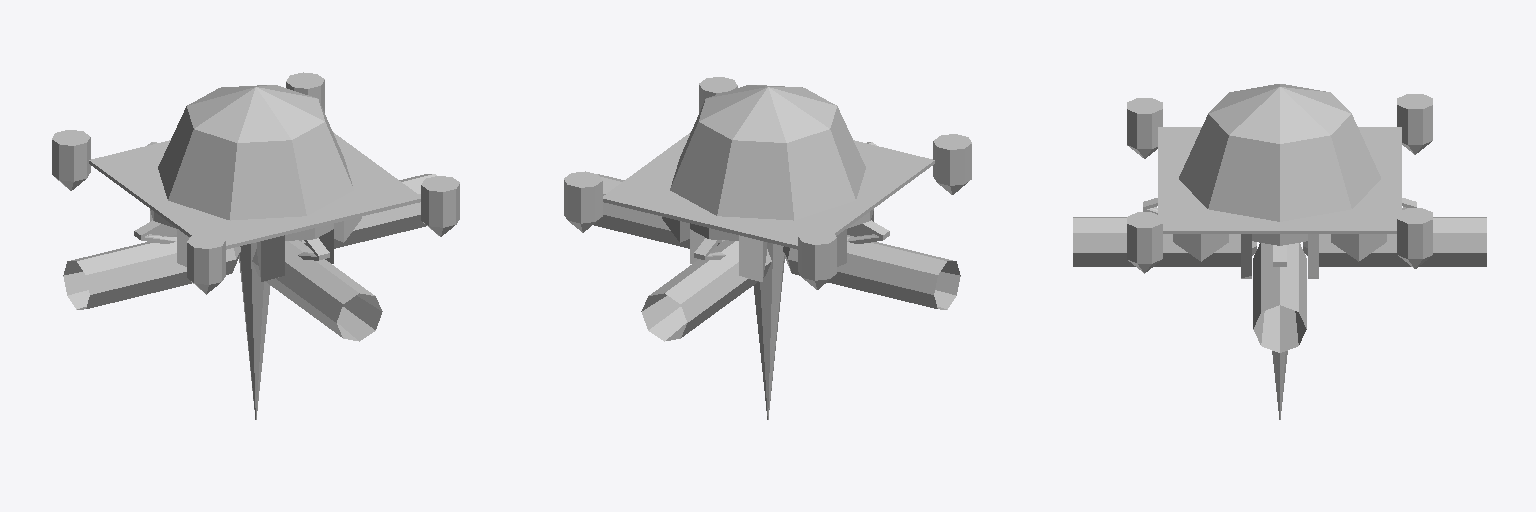
The model's file is Gun Platform.obj.
3 renders of one model, left to right at view 1: azimuth 30°, elevation 25°; view 2: azimuth 150°, elevation 25°; view 3: azimuth 270°, elevation 25°, orthographic.
Visible parts, largest first — view 1: cube2_sep53, cube2, cube2_sep45, cube2_sep49, cube2_sep61, cube2_sep46, cube2_sep59, cube2_sep58, cube2_sep56, cube2_sep60, cube2_sep57, cube2_sep55; view 2: cube2_sep53, cube2, cube2_sep45, cube2_sep48, cube2_sep61, cube2_sep46, cube2_sep56, cube2_sep57, cube2_sep59, cube2_sep52, cube2_sep55, cube2_sep58; view 3: cube2_sep53, cube2, cube2_sep46, cube2_sep48, cube2_sep49, cube2_sep58, cube2_sep57, cube2_sep56, cube2_sep59, cube2_sep54, cube2_sep60, cube2_sep52 (+1 smaller).
Boxes of the visible parts, x1=… form: cube2_sep53: x1=158, y1=85, x2=353, y2=220; cube2: x1=89, y1=132, x2=420, y2=249; cube2_sep45: x1=63, y1=235, x2=240, y2=309; cube2_sep49: x1=252, y1=240, x2=382, y2=341; cube2_sep61: x1=239, y1=242, x2=270, y2=419; cube2_sep46: x1=299, y1=174, x2=436, y2=248; cube2_sep59: x1=187, y1=233, x2=225, y2=294; cube2_sep58: x1=421, y1=176, x2=459, y2=236; cube2_sep56: x1=52, y1=130, x2=90, y2=190; cube2_sep60: x1=257, y1=223, x2=333, y2=281; cube2_sep57: x1=286, y1=72, x2=324, y2=112; cube2_sep55: x1=150, y1=209, x2=189, y2=266; cube2_sep53: x1=670, y1=85, x2=865, y2=220; cube2: x1=603, y1=132, x2=934, y2=249; cube2_sep45: x1=783, y1=235, x2=960, y2=309; cube2_sep48: x1=641, y1=240, x2=771, y2=341; cube2_sep61: x1=753, y1=242, x2=784, y2=419; cube2_sep46: x1=593, y1=174, x2=724, y2=248; cube2_sep56: x1=798, y1=229, x2=836, y2=289; cube2_sep57: x1=564, y1=171, x2=602, y2=232; cube2_sep59: x1=933, y1=134, x2=971, y2=194; cube2_sep52: x1=690, y1=223, x2=766, y2=281; cube2_sep55: x1=836, y1=209, x2=873, y2=266; cube2_sep58: x1=699, y1=77, x2=737, y2=112; cube2_sep53: x1=1179, y1=84, x2=1380, y2=221; cube2: x1=1158, y1=127, x2=1401, y2=233; cube2_sep46: x1=1253, y1=243, x2=1306, y2=352; cube2_sep48: x1=1303, y1=217, x2=1486, y2=266; cube2_sep49: x1=1073, y1=217, x2=1256, y2=266; cube2_sep58: x1=1127, y1=212, x2=1162, y2=273; cube2_sep57: x1=1397, y1=208, x2=1432, y2=268; cube2_sep56: x1=1397, y1=94, x2=1432, y2=154; cube2_sep59: x1=1127, y1=98, x2=1162, y2=158; cube2_sep54: x1=1241, y1=234, x2=1318, y2=278; cube2_sep60: x1=1173, y1=234, x2=1228, y2=261; cube2_sep52: x1=1331, y1=234, x2=1386, y2=261.
Bounding box in the file's own units: 10.5 × 9.46 × 10.5.